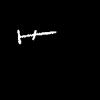double_crochet: (18, 30, 55, 43)
